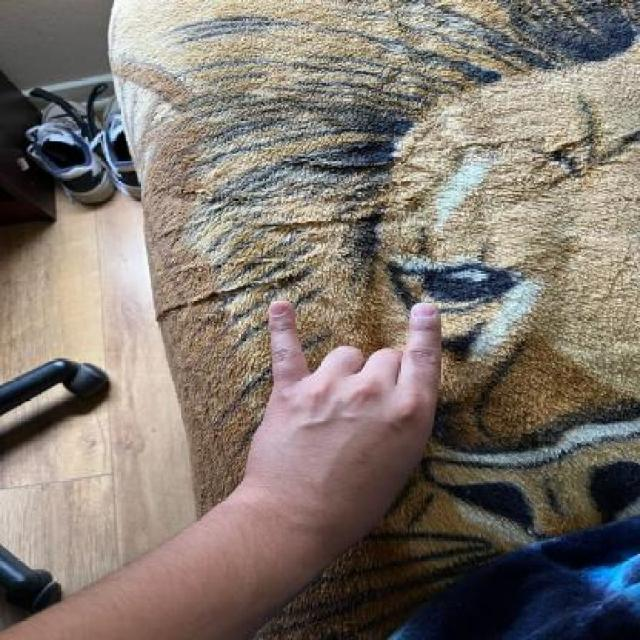U: (246, 290, 452, 512)
